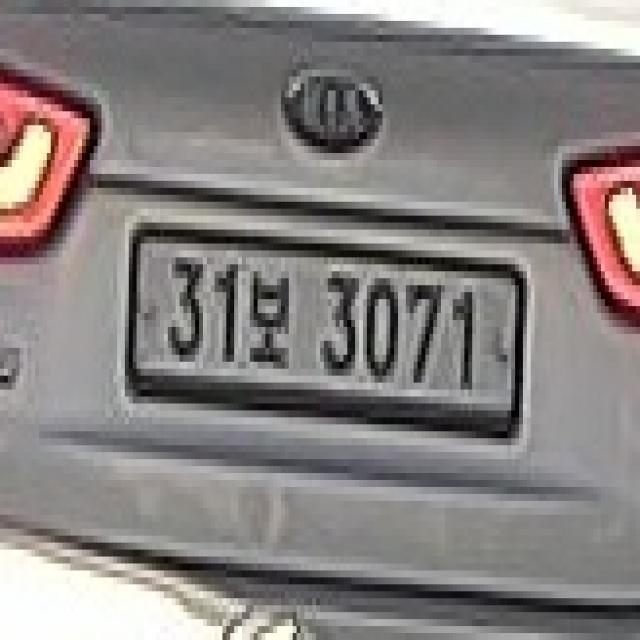0: (363, 271, 398, 376)
1: (211, 264, 242, 369), (449, 278, 476, 397)
3: (164, 244, 207, 368), (316, 264, 359, 383)
7: (402, 272, 445, 396)
bo: (246, 271, 293, 376)
license_plate: (129, 230, 527, 431)
